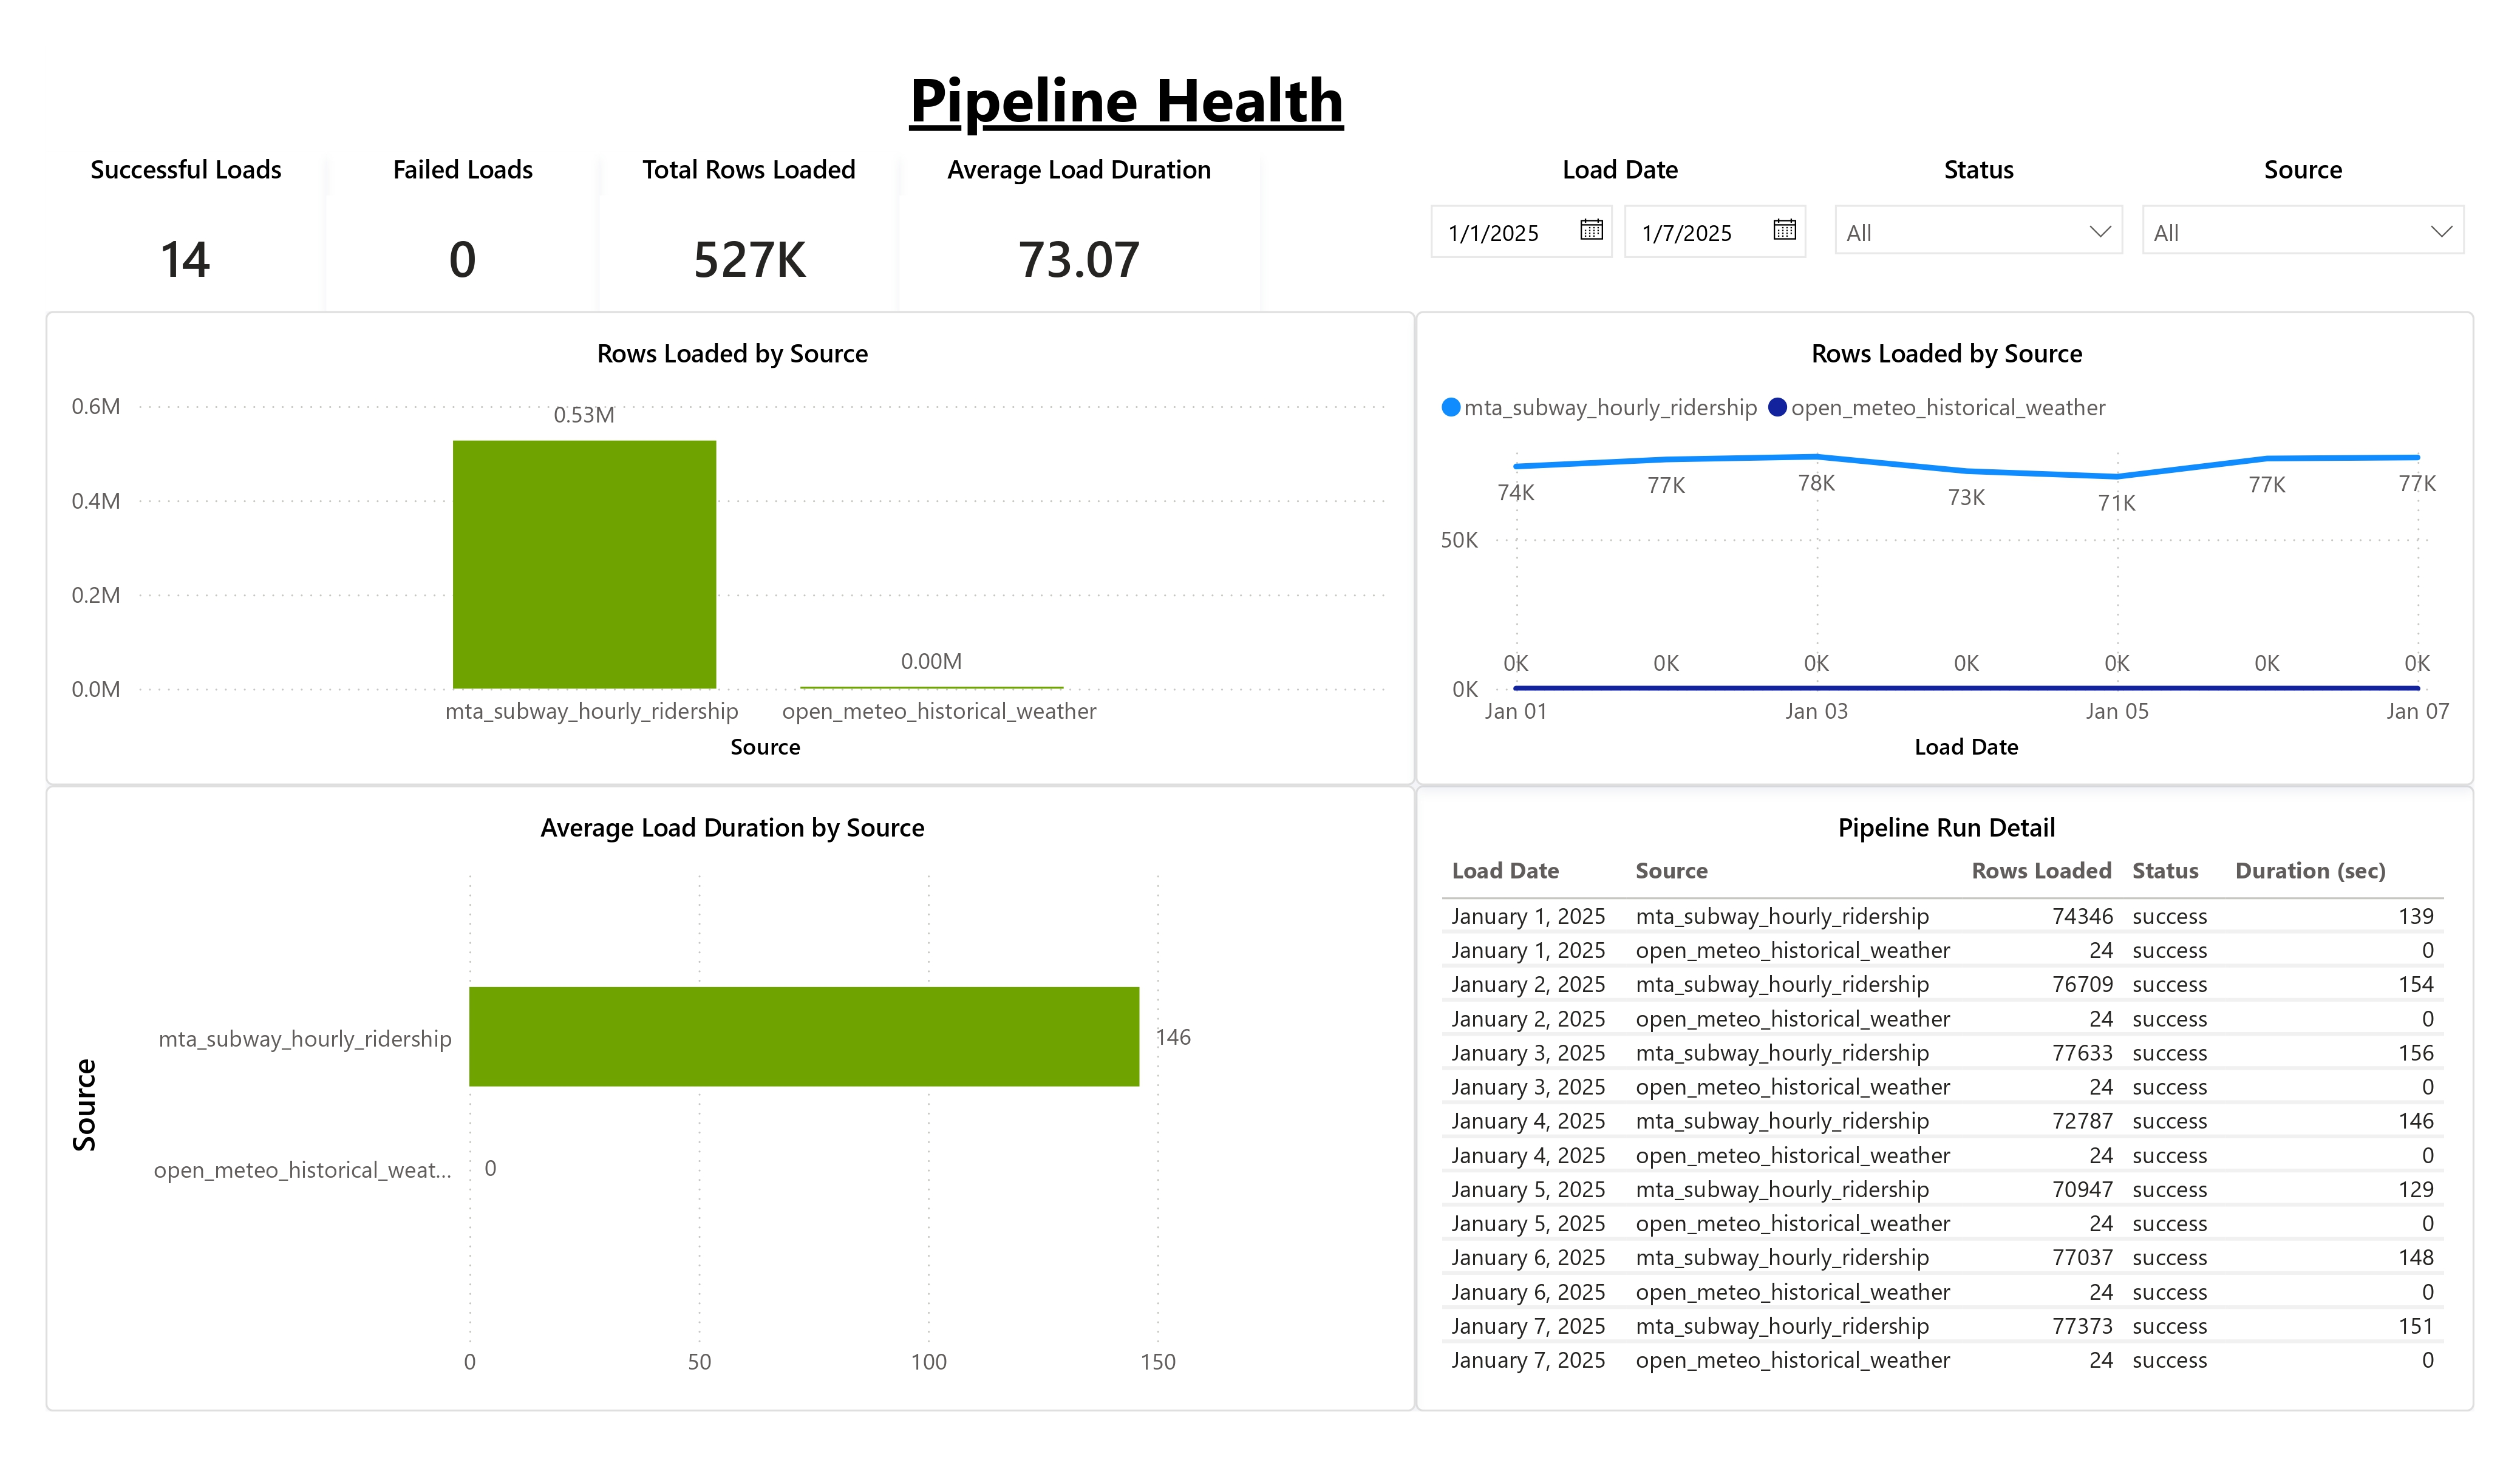

The page's visual inventory and layout, read from the dashboard file:
{"tool":"powerbi","page":{"name":"Pipeline Health","canvas":[1280,720],"ordinal":3},"visuals":[{"type":"cardVisual","title":"Successful Loads","fields":{"Data":["pipeline_health_summary.Successful Loads"]},"box":[0,56,148,84],"z":0},{"type":"cardVisual","title":"Failed Loads","fields":{"Data":["pipeline_health_summary.Failed Loads"]},"box":[148,56,144,84],"z":1},{"type":"cardVisual","title":"Total Rows Loaded","fields":{"Data":["pipeline_health_summary.Total Rows Loaded"]},"box":[292,56,158,84],"z":2},{"type":"cardVisual","title":"Average Load Duration","fields":{"Data":["pipeline_health_summary.Average Load Duration"]},"box":[450,56,190,84],"z":3},{"type":"textbox","box":[450,0,266,56],"z":4},{"type":"slicer","title":"Source","fields":{"Values":["pipeline_health_summary.source_name"]},"box":[1100,56,180,70],"z":5},{"type":"slicer","title":"Load Date","fields":{"Values":["pipeline_health_summary.load_date"]},"box":[722,56,216,70],"z":6},{"type":"columnChart","title":"Rows Loaded by Source","fields":{"Category":["pipeline_health_summary.source_name"],"Y":["pipeline_health_summary.Total Rows Loaded"]},"box":[0,140,722,250],"z":7},{"type":"tableEx","title":"Pipeline Run Detail","fields":{"Values":["pipeline_health_summary.load_date","pipeline_health_summary.source_name","pipeline_health_summary.rows_loaded","pipeline_health_summary.status","pipeline_health_summary.duration_seconds"]},"box":[722,390,558,330],"z":8},{"type":"lineChart","title":"Rows Loaded by Source","fields":{"Category":["pipeline_health_summary.load_date"],"Y":["pipeline_health_summary.Total Rows Loaded"],"Series":["pipeline_health_summary.source_name"]},"box":[722,140,558,250],"z":9},{"type":"slicer","title":"Status","fields":{"Values":["pipeline_health_summary.status"]},"box":[938,56,162,70],"z":10},{"type":"barChart","fields":{"Category":["pipeline_health_summary.source_name"],"Y":["pipeline_health_summary.Average Load Duration"]},"box":[0,390,722,330],"z":11}]}

Visuals, with their boxes on the page's 1280x720 design canvas (x1, y1, x2, y2). These are canvas units, not pixel positions in the 2520x1457 screenshot, which may show the page scaled, cropped or inside an application window:
"Successful Loads" cardVisual: [x1=0, y1=56, x2=148, y2=140]
"Failed Loads" cardVisual: [x1=148, y1=56, x2=292, y2=140]
"Total Rows Loaded" cardVisual: [x1=292, y1=56, x2=450, y2=140]
"Average Load Duration" cardVisual: [x1=450, y1=56, x2=640, y2=140]
textbox: [x1=450, y1=0, x2=716, y2=56]
"Source" slicer: [x1=1100, y1=56, x2=1280, y2=126]
"Load Date" slicer: [x1=722, y1=56, x2=938, y2=126]
"Rows Loaded by Source" columnChart: [x1=0, y1=140, x2=722, y2=390]
"Pipeline Run Detail" tableEx: [x1=722, y1=390, x2=1280, y2=720]
"Rows Loaded by Source" lineChart: [x1=722, y1=140, x2=1280, y2=390]
"Status" slicer: [x1=938, y1=56, x2=1100, y2=126]
barChart - pipeline_health_summary.source_name x pipeline_health_summary.Average Load Duration: [x1=0, y1=390, x2=722, y2=720]
